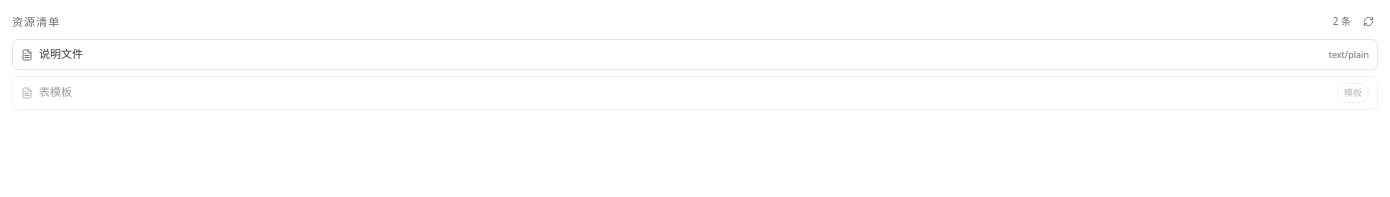
Test: McpResourcePanel › 点击资源读取内容并显示预览
Click the button "说明文件 text/plain" at coordinates (61, 54), box [12,39,1378,70]
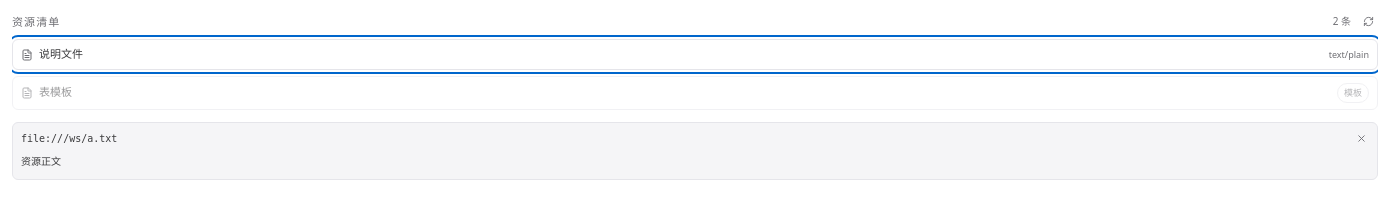
Check: the text "资源正文" is shown, box [21,156,61,168]
